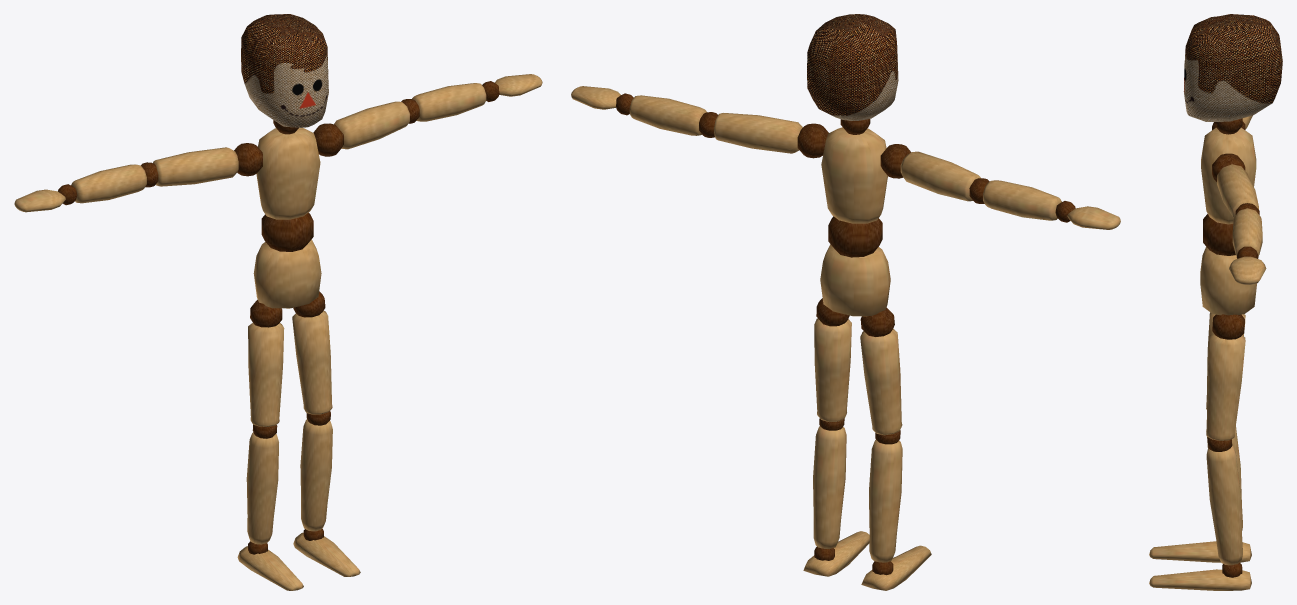
The model's file is Scarecrow-Shell.fbx.
3 views of the same model, side by side, from view 1: azimuth 30°, elevation 25°; view 2: azimuth 150°, elevation 25°; view 3: azimuth 270°, elevation 25° (orthographic). The views are drawn at different scales.
Parts seen in each view (by area): view 1: Head, Upper_Body, Pelvis, Right_Thigh, LeftThigh, LeftShin, Right_Shin, Right_Upper_Arm, LeftUpper_Arm, Right_Lower_Arm, LeftLower_Arm, Joint (+6 smaller); view 2: Head, Upper_Body, Pelvis, LeftShin, Right_Shin, Right_Thigh, LeftThigh, LeftUpper_Arm, Right_Upper_Arm, Right_Lower_Arm, LeftLower_Arm, Joint (+7 smaller); view 3: Head, LeftThigh, LeftShin, Upper_Body, Pelvis, LeftFoot, LeftUpper_Arm, Right_Foot, LeftLower_Arm, Joint, LeftHand, LeftJoint_3 (+7 smaller).
Boxes of the visible parts, x1=… form: Head: x1=241, y1=14, x2=328, y2=127; Upper_Body: x1=256, y1=127, x2=320, y2=219; Pelvis: x1=253, y1=239, x2=321, y2=308; Right_Thigh: x1=248, y1=323, x2=284, y2=426; LeftThigh: x1=292, y1=310, x2=332, y2=414; LeftShin: x1=300, y1=419, x2=332, y2=531; Right_Shin: x1=246, y1=432, x2=278, y2=544; Right_Upper_Arm: x1=153, y1=147, x2=238, y2=186; LeftUpper_Arm: x1=334, y1=101, x2=409, y2=149; Right_Lower_Arm: x1=71, y1=164, x2=146, y2=203; LeftLower_Arm: x1=412, y1=83, x2=486, y2=121; Joint: x1=261, y1=212, x2=313, y2=251; Head: x1=807, y1=14, x2=898, y2=120; Upper_Body: x1=821, y1=127, x2=887, y2=223; Pelvis: x1=820, y1=244, x2=890, y2=316; LeftShin: x1=813, y1=426, x2=846, y2=548; Right_Shin: x1=869, y1=439, x2=902, y2=562; Right_Thigh: x1=860, y1=328, x2=902, y2=435; LeftThigh: x1=814, y1=318, x2=851, y2=421; LeftUpper_Arm: x1=714, y1=113, x2=802, y2=153; Right_Upper_Arm: x1=900, y1=151, x2=980, y2=201; Right_Lower_Arm: x1=983, y1=180, x2=1061, y2=220; LeftLower_Arm: x1=629, y1=95, x2=706, y2=135; Joint: x1=828, y1=216, x2=882, y2=257; Head: x1=1183, y1=14, x2=1282, y2=121; LeftThigh: x1=1206, y1=333, x2=1245, y2=440; LeftShin: x1=1206, y1=445, x2=1242, y2=565; Upper_Body: x1=1201, y1=127, x2=1256, y2=224; Pelvis: x1=1200, y1=246, x2=1256, y2=315; LeftFoot: x1=1149, y1=569, x2=1251, y2=590; LeftUpper_Arm: x1=1217, y1=164, x2=1258, y2=217; Right_Foot: x1=1149, y1=541, x2=1251, y2=562; LeftLower_Arm: x1=1232, y1=208, x2=1262, y2=255; Joint: x1=1203, y1=214, x2=1235, y2=255; LeftHand: x1=1229, y1=256, x2=1266, y2=284; LeftJoint_3: x1=1212, y1=314, x2=1244, y2=339.
Size of the model in its own units: 189 by 184 by 40.56.
